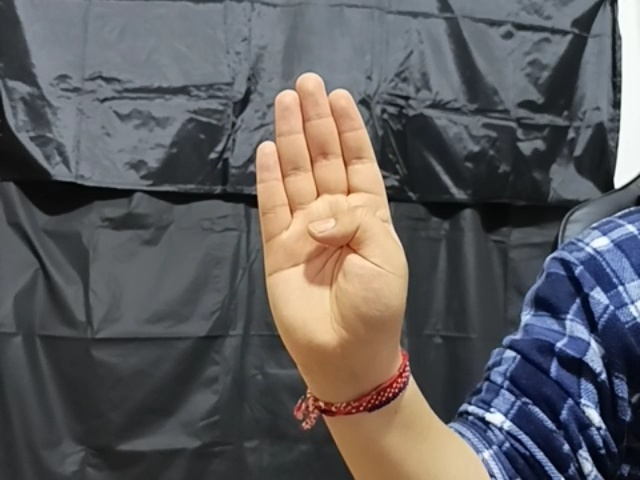B: (246, 70, 426, 381)
